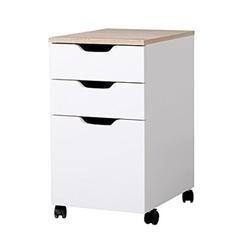cabinet_door: (49, 118, 146, 207), (48, 43, 144, 83), (49, 83, 145, 121)
handle: (76, 76, 118, 90), (80, 115, 117, 127), (79, 44, 114, 56)
